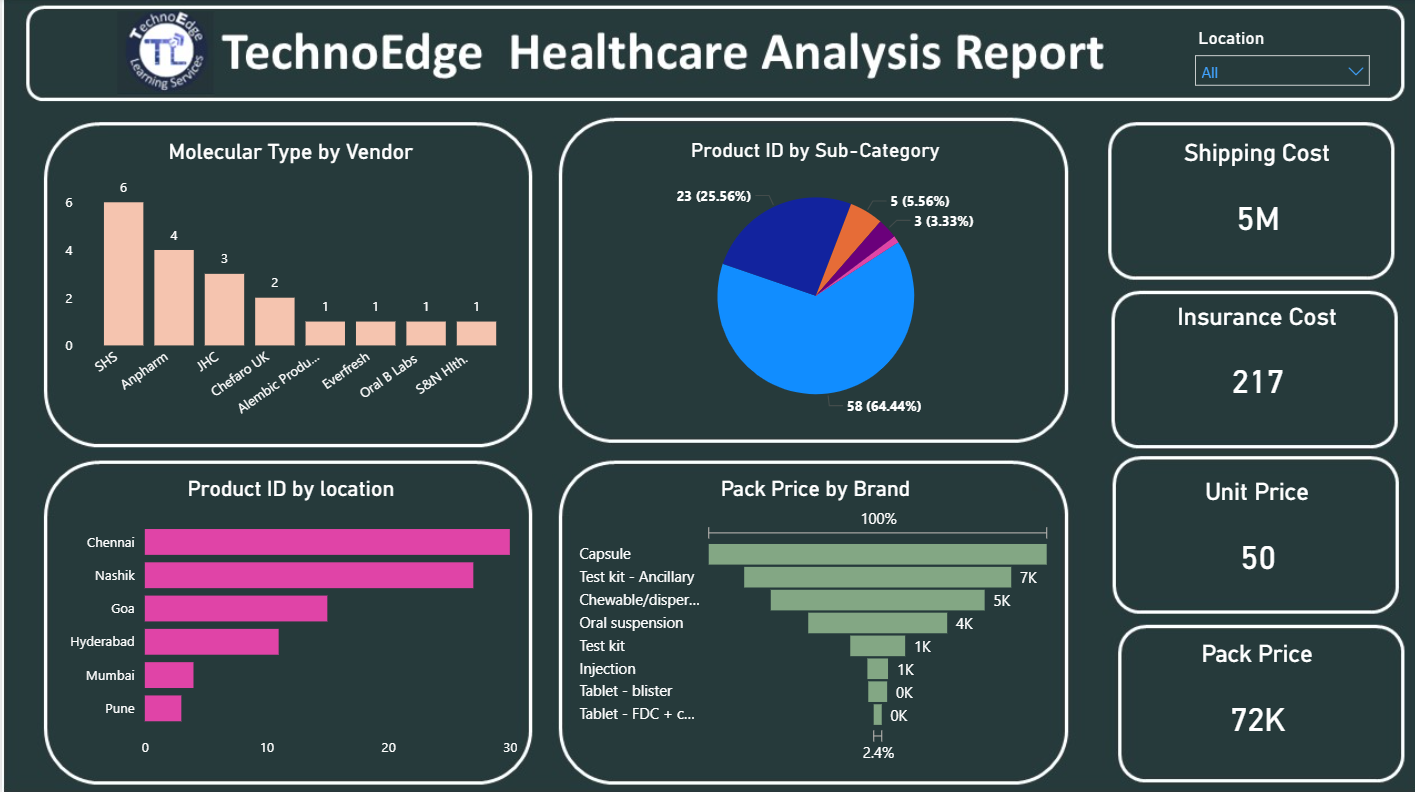

Layout of this report page (visuals, bound fields, positions):
{"tool":"powerbi","page":{"name":"Page 1","canvas":[1280,720],"ordinal":0},"visuals":[{"type":"slicer","fields":{"Values":["Pharma_details.Nashik"]},"box":[1064.5,21.2,177.2,65.1],"z":0},{"type":"clusteredColumnChart","title":"Molecular Type by Vendor","fields":{"Y":["CountNonNull(Pharma_details.HIV, Lancet, Safety, for HIV Ancillaries kits, 100 Pcs)"],"Category":["Pharma_details.Glenwood "]},"box":[51,126.6,417.6,262.7],"z":1000},{"type":"pieChart","title":"Product ID by Sub-Category","fields":{"Category":["Pharma_details.TDRH1001"],"Y":["CountNonNull(Pharma_details.PD - 1)"]},"box":[514.8,127.2,436.1,262],"z":2000},{"type":"barChart","title":"Product ID by location","fields":{"Y":["CountNonNull(Pharma_details.PD - 1)"],"Category":["Pharma_details.Nashik"]},"box":[51.5,431.5,417.9,262],"z":3000},{"type":"funnel","title":" Pack Price by Brand","fields":{"Category":["Pharma_details.Test kit - Ancillary"],"Y":["Sum(Pharma_details.Pack Price)"]},"box":[514.8,431.5,436.1,262],"z":4000},{"type":"card","title":"Shipping Cost","fields":{"Values":["Sum(Pharma_details.Shipping Cost (USD))"]},"box":[1021,127.4,221,114.5],"z":5000},{"type":"card","title":"Insurance Cost","fields":{"Values":["Count(Pharma_details.Insurance Cost (USD))"]},"box":[1021,274.2,221,114.5],"z":6000},{"type":"card","title":"Unit Price","fields":{"Values":["Count(Pharma_details.Product_Price Details.Unit Price)"]},"box":[1021,432.3,221,114.5],"z":7000},{"type":"card","title":"Pack Price","fields":{"Values":["Sum(Pharma_details.Pack Price)"]},"box":[1021,579,221,114.5],"z":8000}]}

Visuals, with their boxes in screenshot pixels (x1, y1, x2, y2), scaled from the page's 1280x720 canvas onto the 1415x792 screenshot:
slicer - Pharma_details.Nashik: BBox(1177, 23, 1373, 95)
"Molecular Type by Vendor" clusteredColumnChart: BBox(56, 139, 518, 428)
"Product ID by Sub-Category" pieChart: BBox(569, 140, 1051, 428)
"Product ID by location" barChart: BBox(57, 475, 519, 763)
" Pack Price by Brand" funnel: BBox(569, 475, 1051, 763)
"Shipping Cost" card: BBox(1129, 140, 1373, 266)
"Insurance Cost" card: BBox(1129, 302, 1373, 428)
"Unit Price" card: BBox(1129, 476, 1373, 601)
"Pack Price" card: BBox(1129, 637, 1373, 763)
